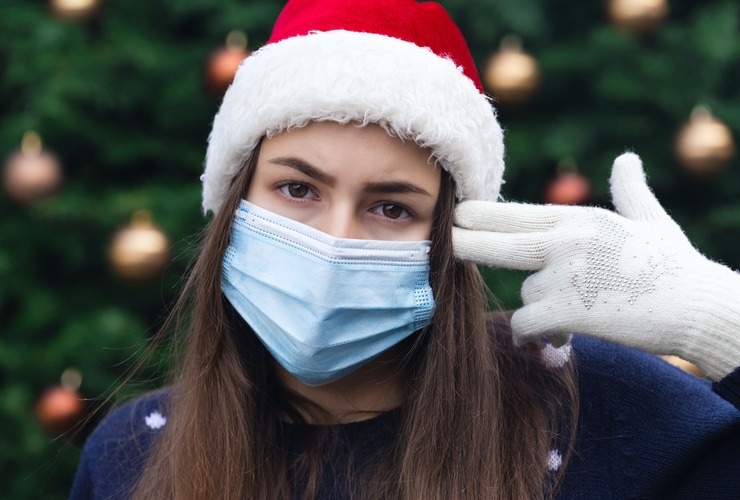with_mask: (247, 149, 428, 359)
